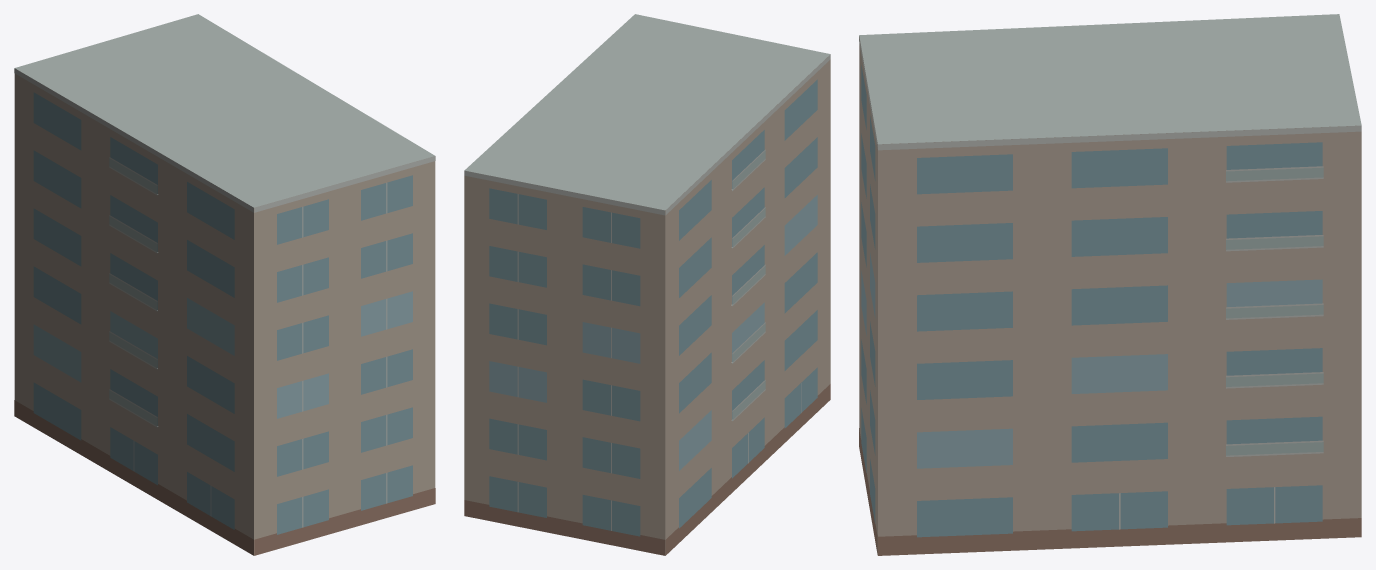
Rendered from survey-upis-32659363.glb.
3 views of the same model, side by side, from view 1: azimuth 30°, elevation 25°; view 2: azimuth 150°, elevation 25°; view 3: azimuth 270°, elevation 25° (orthographic). The views are drawn at different scales.
Visible parts, largest first — view 1: survey-upis-32659363.tmp; view 2: survey-upis-32659363.tmp; view 3: survey-upis-32659363.tmp.
Boxes of the visible parts, bbox=[...] form: survey-upis-32659363.tmp: bbox=[14, 14, 435, 555]; survey-upis-32659363.tmp: bbox=[464, 14, 830, 555]; survey-upis-32659363.tmp: bbox=[859, 14, 1361, 555].
Size of the model in its own units: 11.28 by 16.6 by 18.38.
